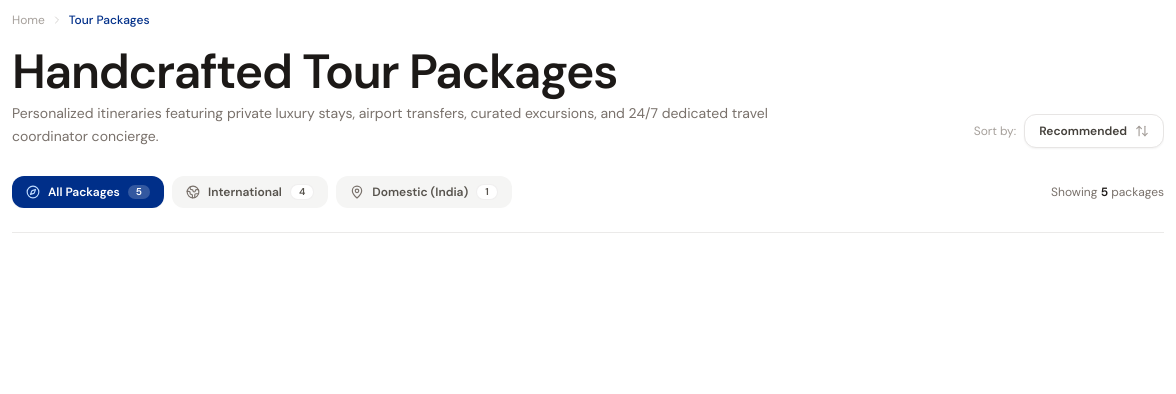
TourHeader component › opens custom sort popover and selects an option
Later steps or results of the test are not shown.
What coordinates should you click on to do the following:
click the button with aria-label "Sort by: Recommended"
I would click on:
 (1094, 130)
Its box is [1024,114,1164,148].
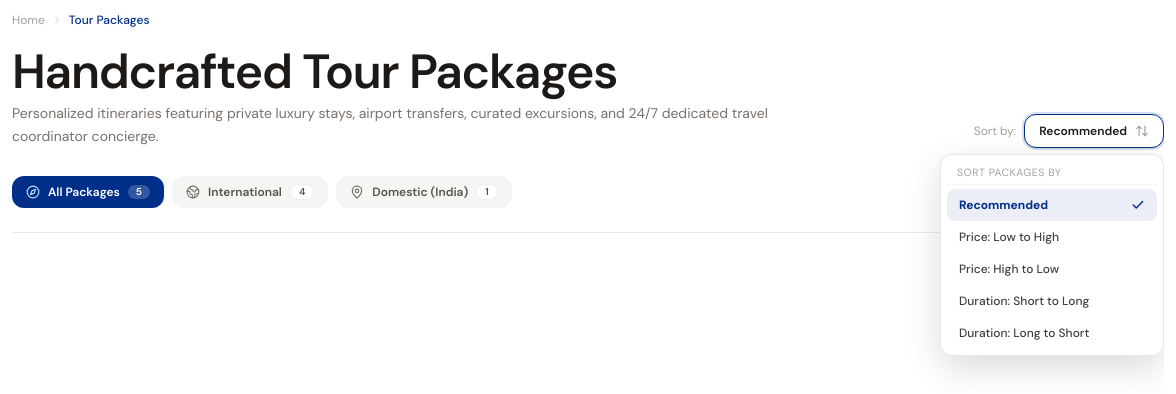
Expected: the list named "Sort options" is shown, [940,154,1164,356]
